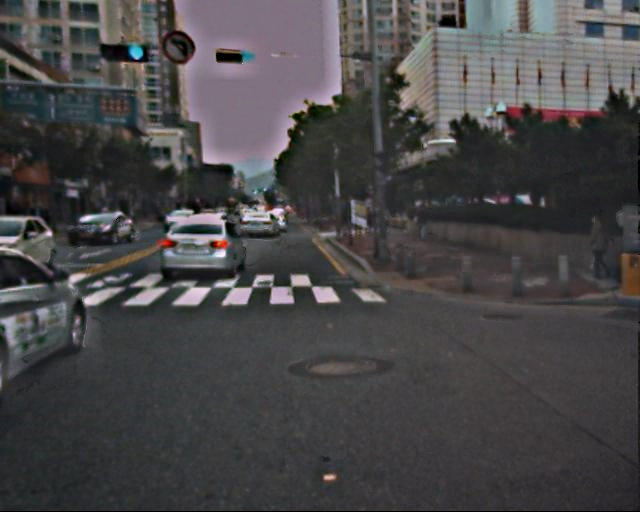person: (581, 213, 610, 284)
